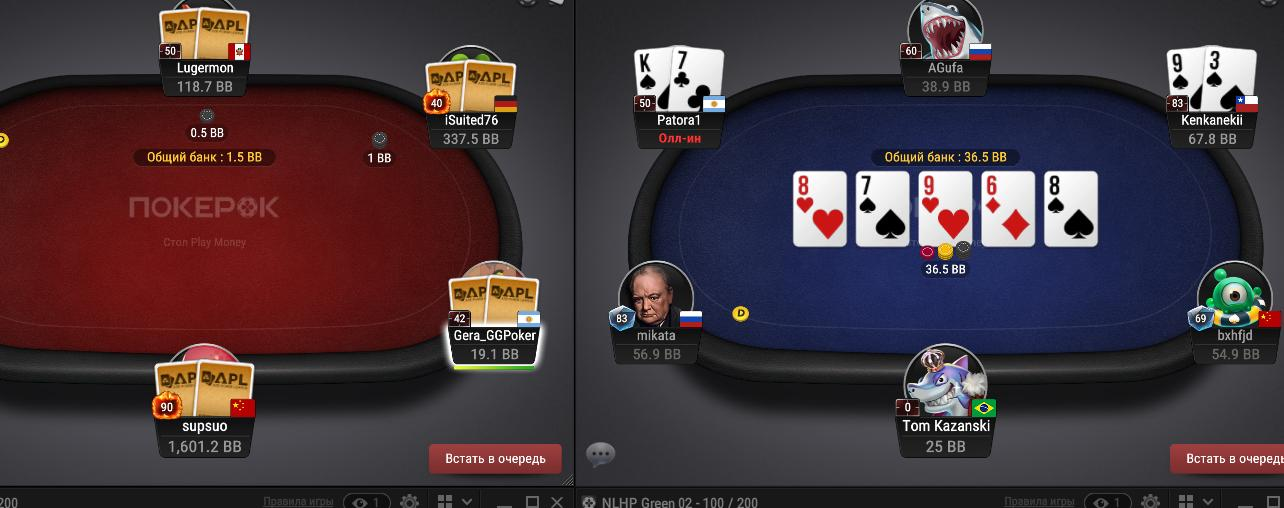3s: (1205, 48, 1260, 112)
6d: (981, 172, 1035, 245)
7c: (672, 45, 725, 116)
7s: (856, 172, 909, 244)
8h: (795, 172, 846, 246)
8s: (1043, 170, 1097, 246)
9h: (920, 174, 972, 246)
9s: (1168, 48, 1205, 112)
Ks: (635, 48, 674, 113)
